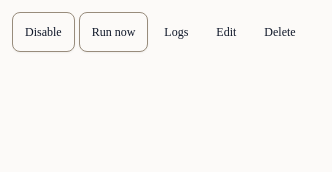
Test: ScheduleActions › toggles the schedule with the next state
The image size is (332, 172).
Click the button with aria-label "Disable: Morning scan": (43, 32) x1=12 y1=12 x2=75 y2=52
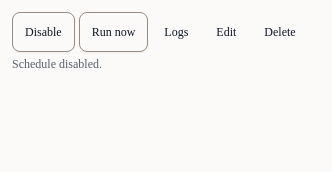
Expected: the message reads "Schedule disabled.", x1=12 y1=57 x2=102 y2=71
